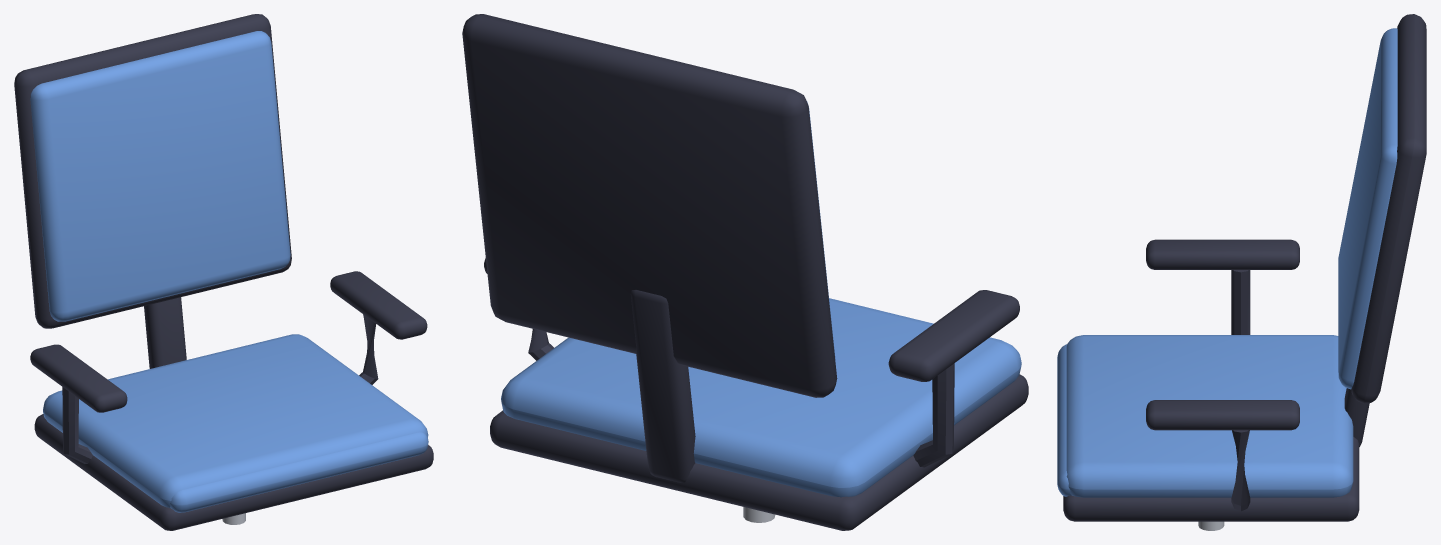
Rendered from office_chair_top.glb.
3 renders of one model, left to right at view 1: azimuth 30°, elevation 25°; view 2: azimuth 150°, elevation 25°; view 3: azimuth 270°, elevation 25°, orthographic. The views are drawn at different scales.
Visible parts, largest first — view 1: accent_fabric, charcoal; view 2: charcoal, accent_fabric; view 3: accent_fabric, charcoal.
Part boxes in pixels (x1,y1,x2,y2): accent_fabric: (30,31,428,512); charcoal: (14,14,433,530); charcoal: (462,14,1028,530); accent_fabric: (501,101,1021,497); accent_fabric: (1057,28,1397,497); charcoal: (1063,14,1426,521).
Size of the model in its own units: 0.71 by 0.8362 by 0.6237.
